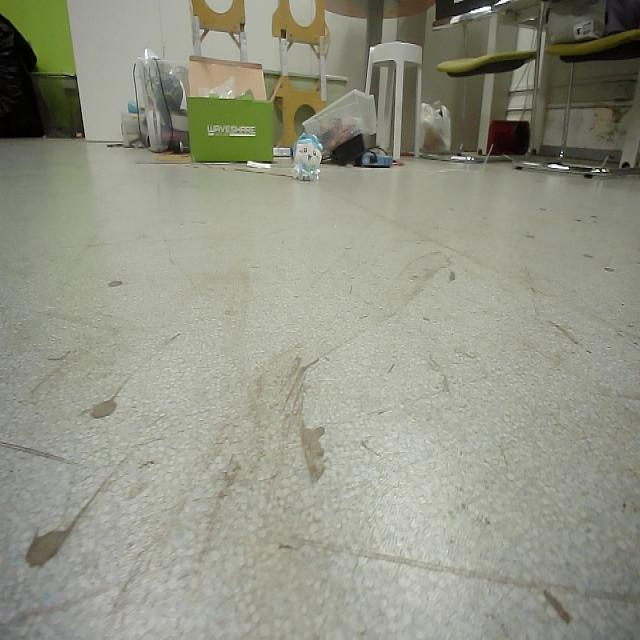xiaoba: (292, 128, 324, 188)
